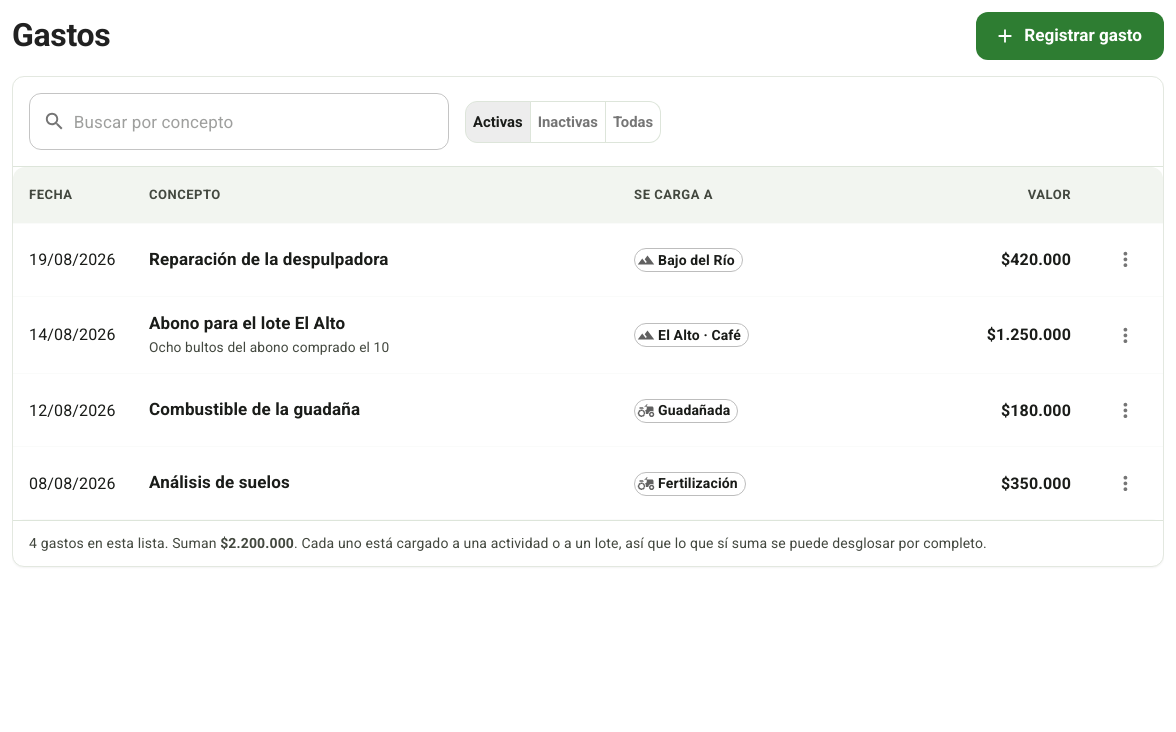
the list › and under the all filter, separates what is shown from what is summed
Expected: the text "Abono para el lote El Alto" is shown, [149,313,345,333]
Click the button "Todas" at (633, 122), box [605,101,661,143]
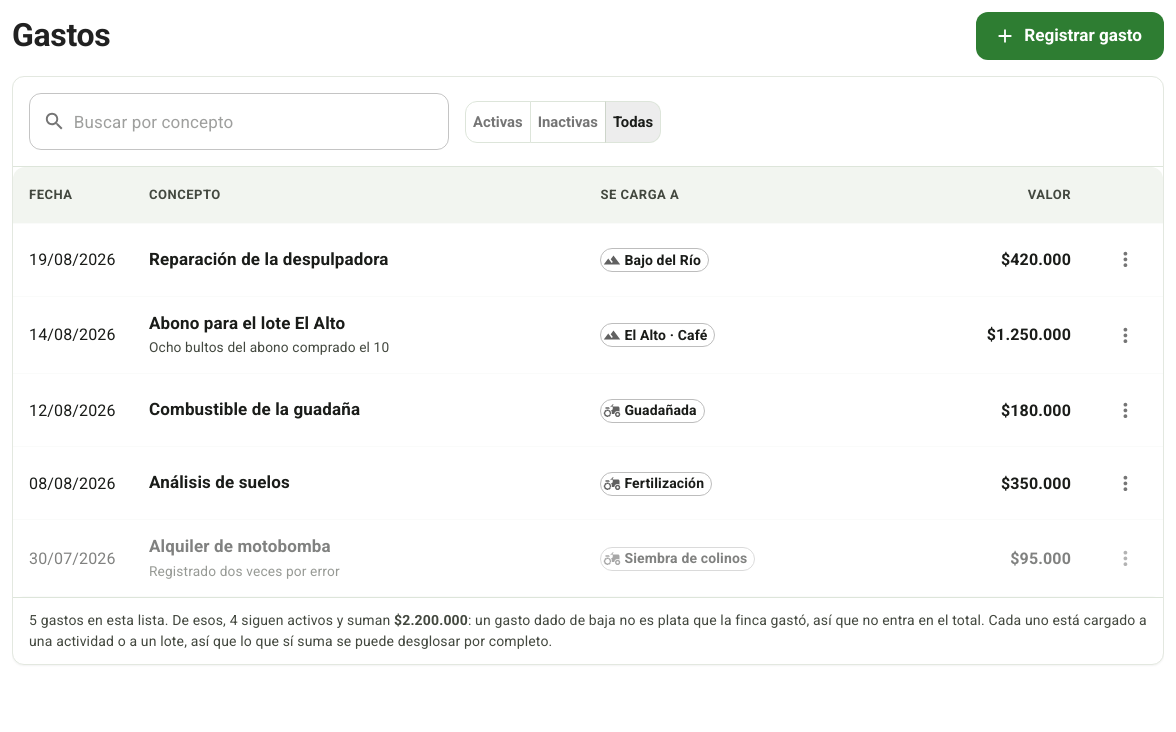
Expected: the text "Alquiler de motobomba" is shown, [149,536,331,556]
Expected: the text "5 gastos en esta lista" is shown, [13,597,1163,664]
Expected: the text "4 siguen activos" is shown, [230,612,333,628]
